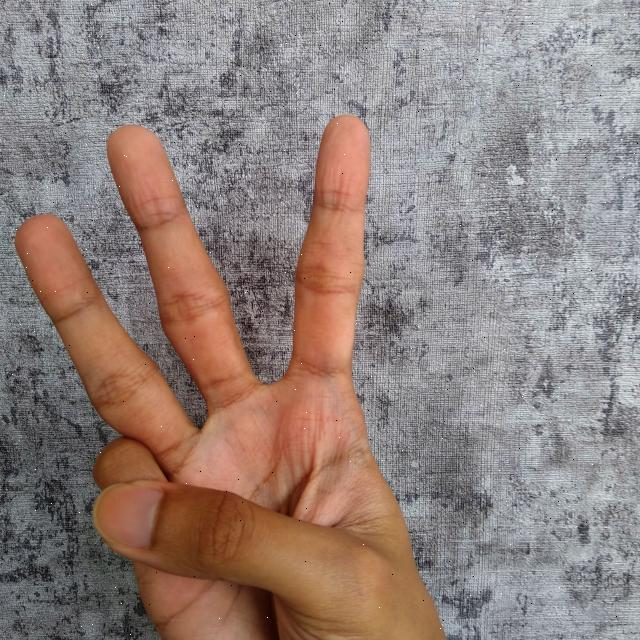W: (11, 100, 440, 640)
